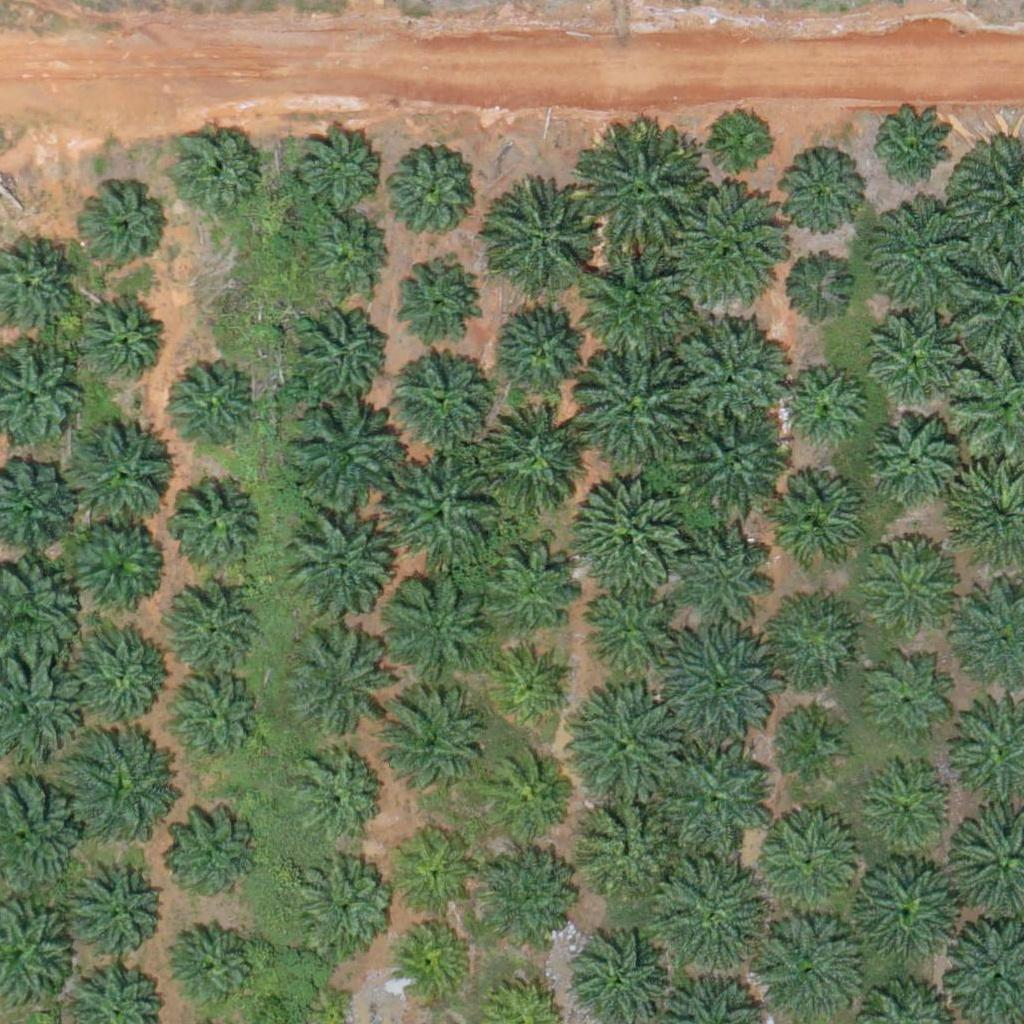Kelapa_Sawit: (579, 135, 704, 261), (850, 855, 963, 969), (679, 190, 792, 304), (475, 403, 588, 517), (868, 195, 981, 308), (755, 810, 868, 923), (657, 859, 770, 972), (661, 625, 774, 738), (582, 253, 695, 366), (573, 354, 686, 467), (570, 474, 683, 587), (468, 534, 581, 647), (67, 728, 180, 841), (578, 692, 690, 806), (380, 568, 492, 682), (377, 684, 489, 798), (286, 400, 398, 514), (660, 743, 772, 856), (679, 405, 791, 518), (674, 318, 786, 431), (385, 459, 497, 572), (61, 416, 173, 529), (677, 512, 777, 613), (497, 296, 597, 397), (381, 140, 481, 241), (281, 632, 381, 733), (157, 360, 257, 461), (162, 581, 262, 682), (163, 670, 263, 771), (72, 622, 172, 723), (64, 514, 164, 615), (766, 474, 866, 574), (581, 795, 681, 895), (492, 194, 592, 294), (394, 350, 494, 450), (290, 852, 390, 952), (285, 519, 385, 619), (290, 303, 390, 403), (166, 475, 266, 575), (776, 152, 864, 241), (480, 855, 568, 944), (487, 642, 575, 730), (863, 764, 951, 852), (867, 310, 955, 398), (777, 364, 865, 452), (576, 588, 664, 676), (479, 754, 567, 842), (388, 256, 476, 344), (290, 750, 378, 838), (170, 125, 258, 213), (74, 864, 162, 952), (73, 296, 161, 384), (390, 915, 478, 1003), (171, 916, 258, 1005), (868, 106, 955, 194), (870, 540, 957, 628), (869, 414, 956, 502), (771, 595, 858, 683), (392, 830, 479, 918), (308, 211, 395, 299), (296, 128, 383, 216), (167, 809, 254, 897), (83, 185, 170, 273), (778, 257, 853, 333), (873, 666, 948, 742), (712, 109, 775, 172), (780, 714, 843, 777)
